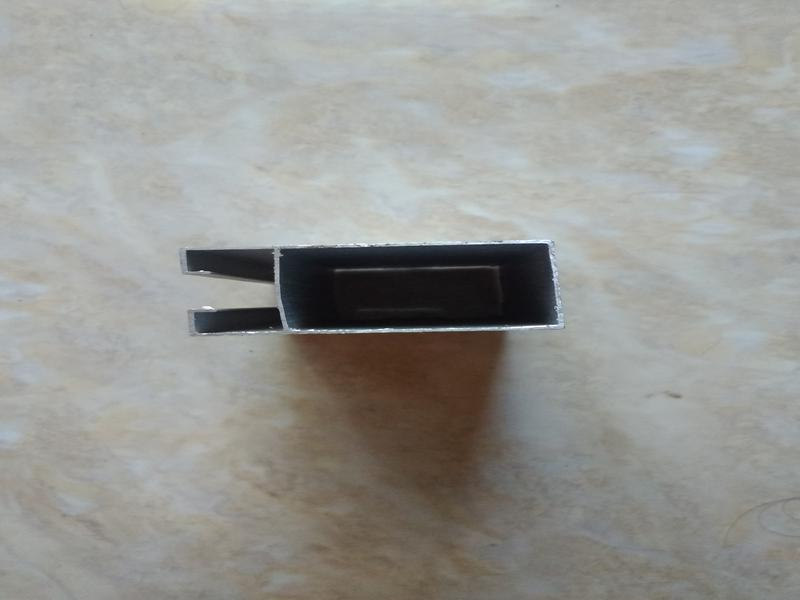Aluminium_1: (170, 224, 592, 349)
